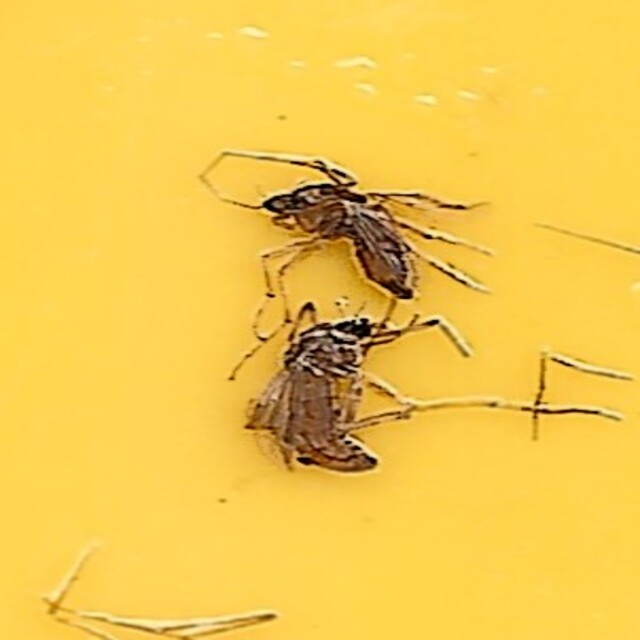Nematocera: (235, 296, 407, 490), (212, 150, 428, 302)
